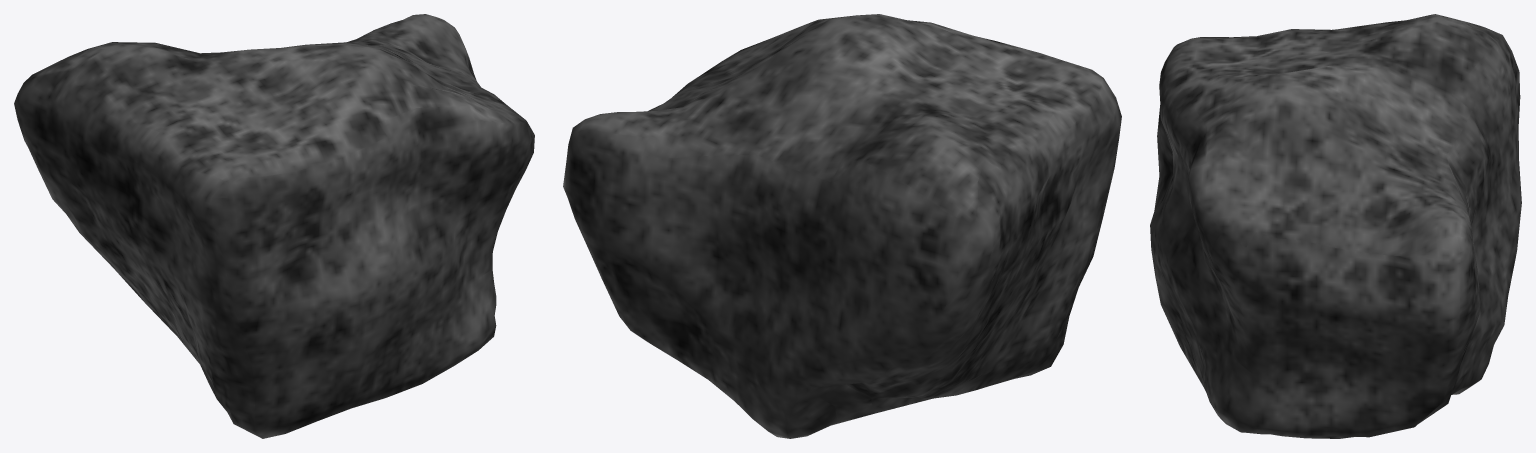
Rendered from Asteroid_10.fbx.
3 renders of one model, left to right at view 1: azimuth 30°, elevation 25°; view 2: azimuth 150°, elevation 25°; view 3: azimuth 270°, elevation 25°, orthographic. The views are drawn at different scales.
Visible parts, largest first — view 1: Asteroid_no_10; view 2: Asteroid_no_10; view 3: Asteroid_no_10.
Part boxes in pixels (x1,y1,x2,y2): Asteroid_no_10: [14, 14, 534, 438]; Asteroid_no_10: [563, 14, 1121, 438]; Asteroid_no_10: [1150, 14, 1521, 438].
Size of the model in its own units: 446 by 328 by 343.
Materials: 1 (1 with a texture image).
